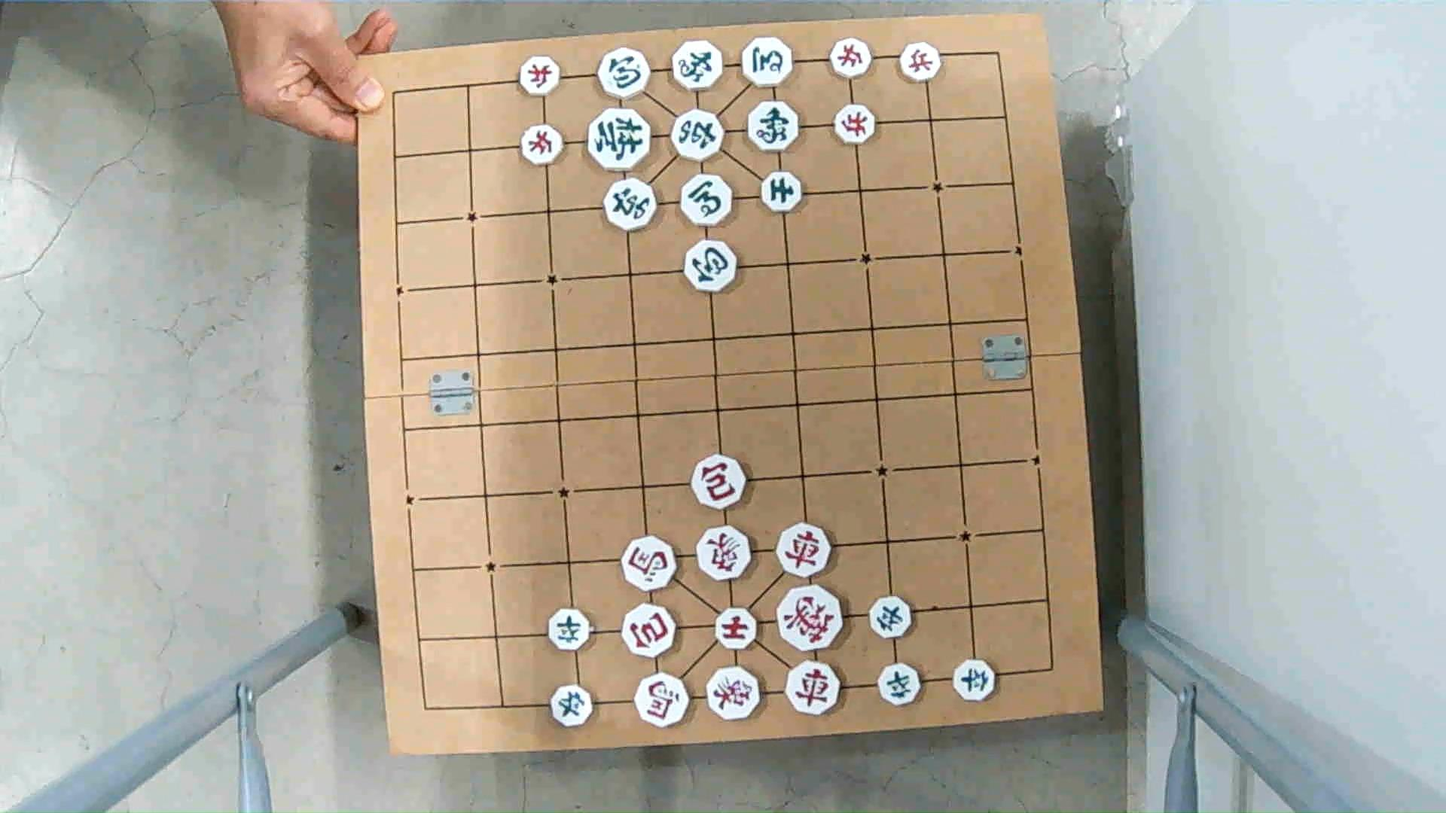cha_green: (600, 176, 660, 233), (667, 112, 724, 160)
cha_red: (783, 663, 842, 714), (776, 525, 834, 575)
jol_green: (867, 599, 913, 639), (548, 609, 595, 648), (951, 662, 999, 700), (550, 686, 595, 726), (877, 665, 922, 705)
jol_red: (830, 104, 880, 145), (895, 41, 944, 81), (826, 38, 874, 78), (519, 56, 563, 97), (521, 125, 565, 163)
ma_green: (682, 178, 737, 227), (743, 38, 796, 86)
ma_red: (621, 537, 679, 587), (634, 678, 690, 729)
po_green: (683, 242, 738, 291), (599, 48, 651, 99)
po_red: (691, 461, 749, 509), (621, 607, 677, 656)
sa_green: (756, 173, 805, 213)
sa_red: (714, 609, 758, 649)
sang_green: (673, 38, 724, 93), (750, 102, 801, 154)
sang_red: (697, 528, 755, 578), (703, 667, 759, 718)
wang_green: (587, 110, 651, 168)
wang_red: (776, 591, 847, 650)
